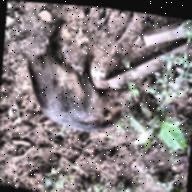boar: (14, 17, 147, 163)
